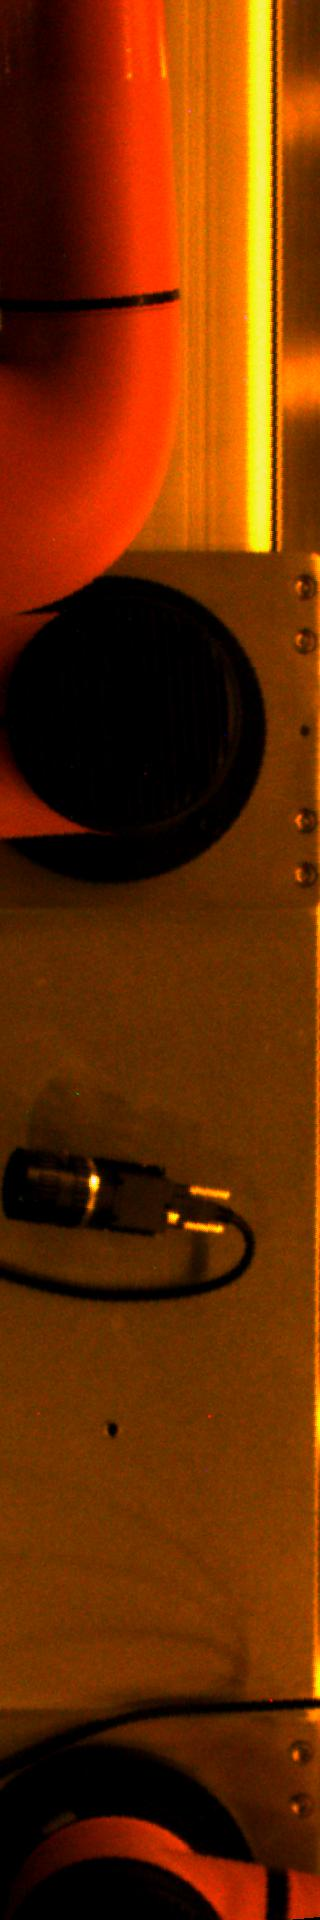keyPoint_2: (97, 1414, 128, 1444)
